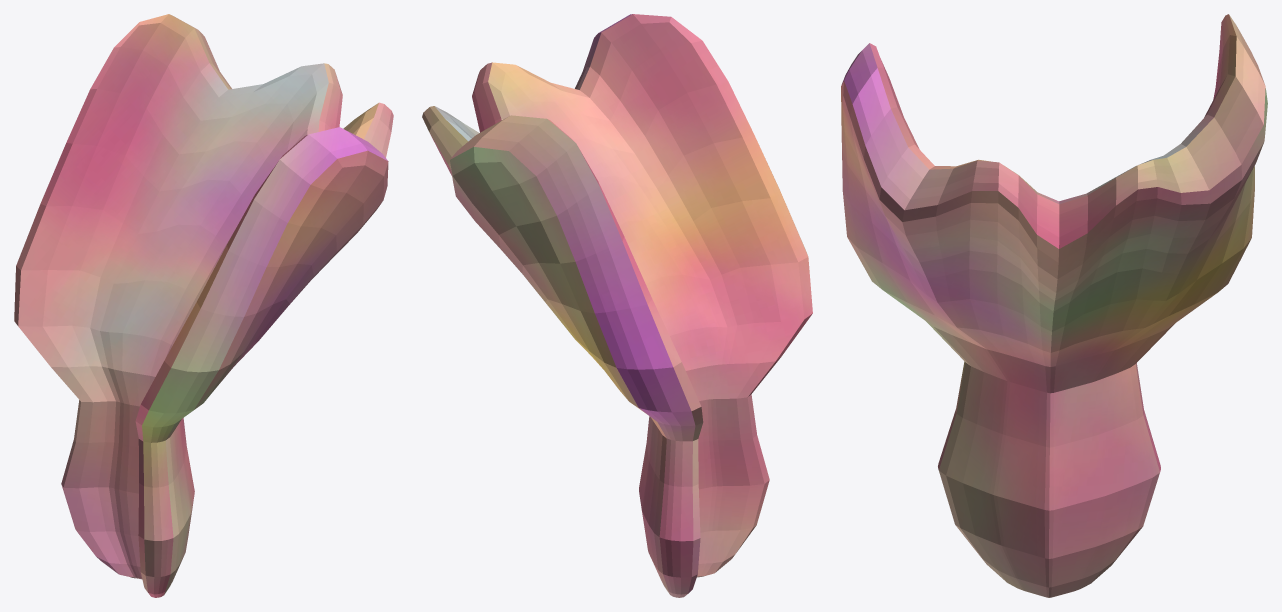
Rendered from hongohoja.glb.
3 views of the same model, side by side, from view 1: azimuth 30°, elevation 25°; view 2: azimuth 150°, elevation 25°; view 3: azimuth 270°, elevation 25° (orthographic). The views are drawn at different scales.
Visible parts, largest first — view 1: hongo hoja; view 2: hongo hoja; view 3: hongo hoja.
Part boxes in pixels (x1,y1,x2,y2): hongo hoja: (14,14,393,597); hongo hoja: (422,14,812,597); hongo hoja: (841,14,1267,597).
Size of what is drawn, in the model's own units: 2.28 by 3.63 by 2.29.
1 material, 1 textured.
